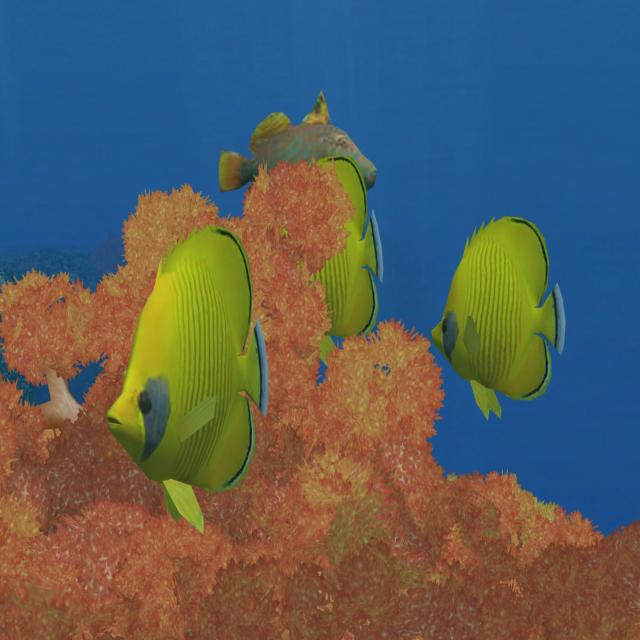ButterflyFish: (110, 228, 267, 540), (434, 215, 567, 411)
